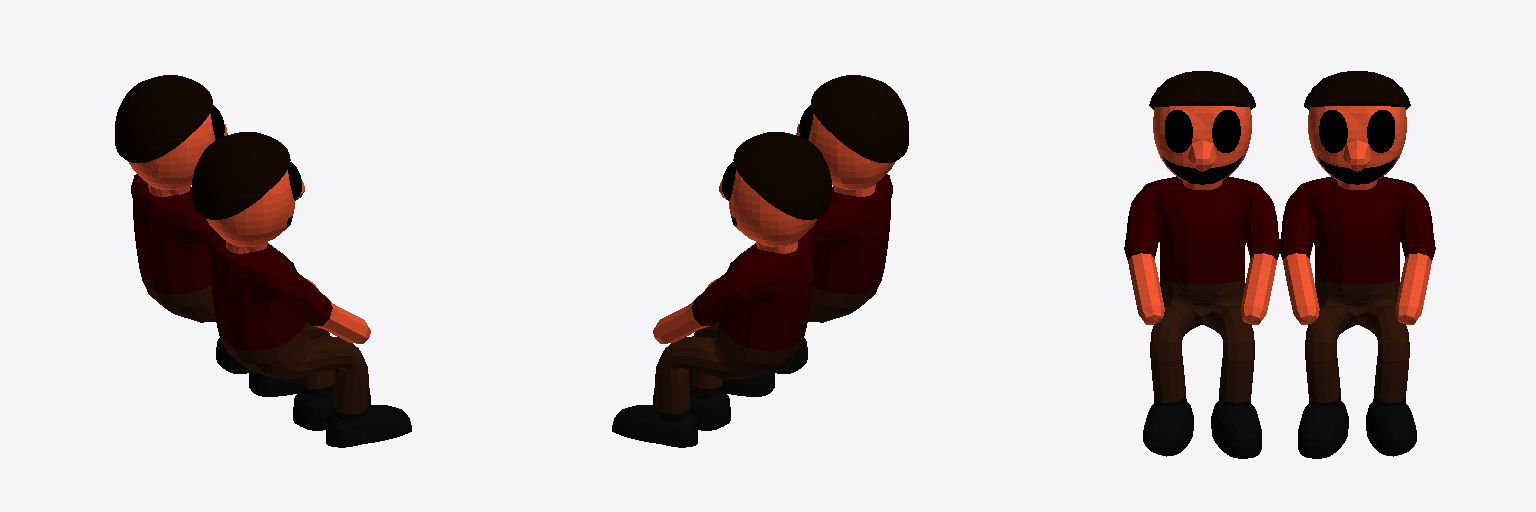
File: peep.obj
The picture shows the model from 3 angles: view 1: azimuth 30°, elevation 25°; view 2: azimuth 150°, elevation 25°; view 3: azimuth 270°, elevation 25°; orthographic projection.
Size of the model in its own units: 0.7997 by 1.28 by 1.15.